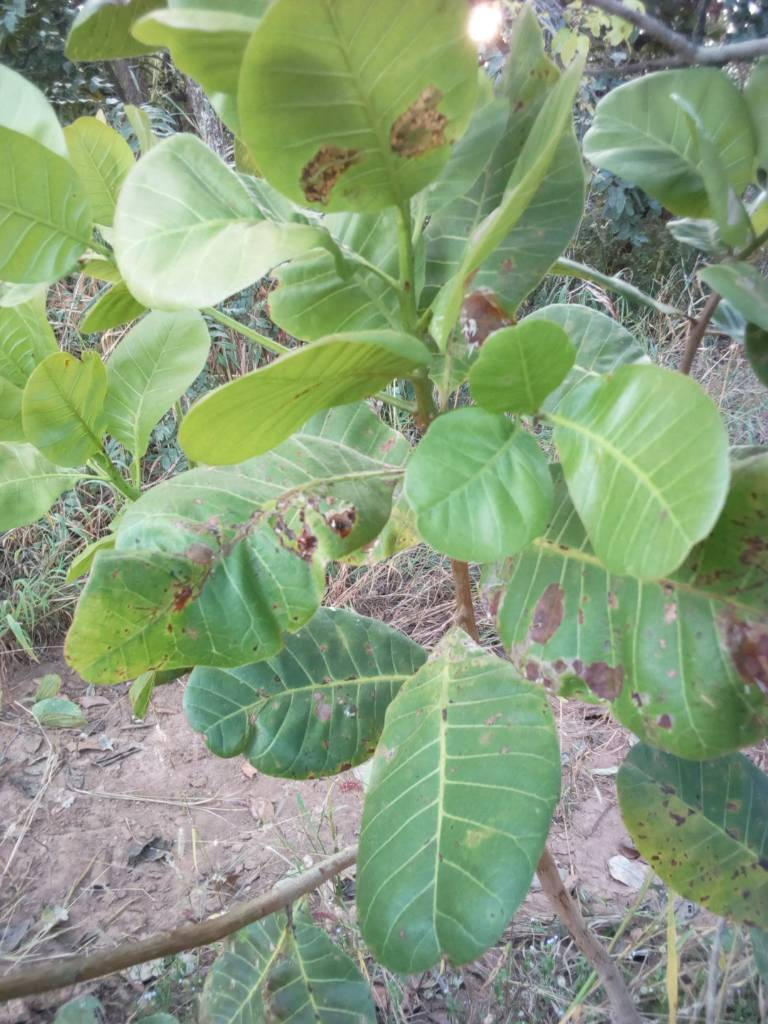Dysdercus wolkerii: (490, 479, 768, 762), (210, 1, 538, 236)
